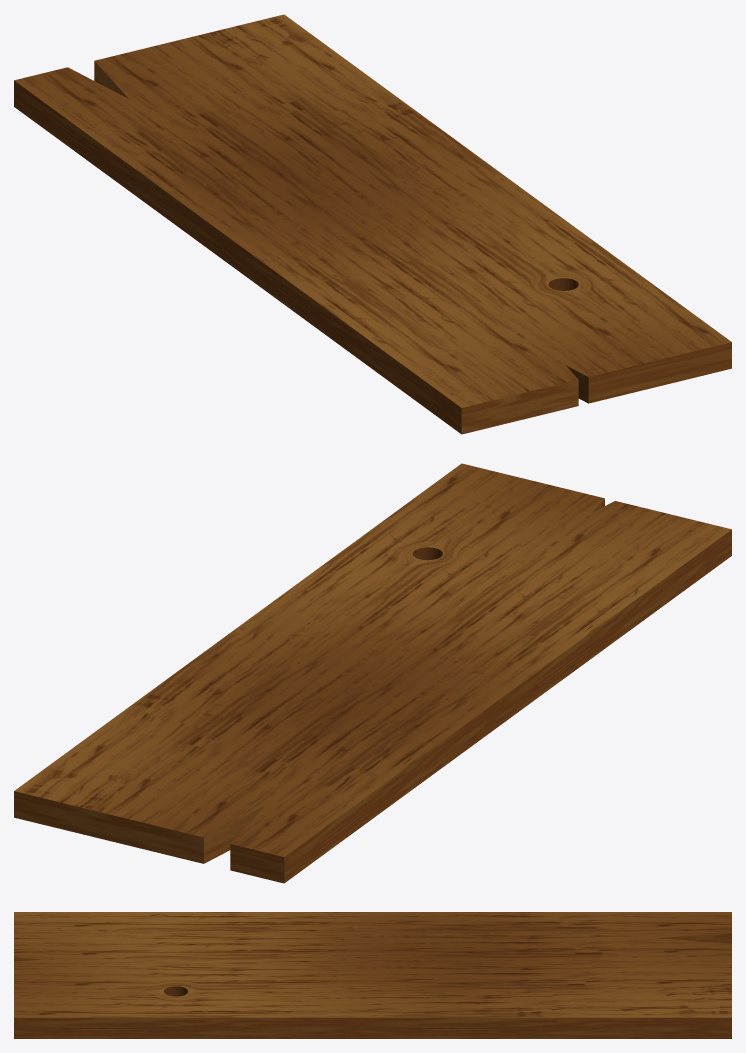
Rendered from Wood.fbx.
3 views of the same model, one above another, from view 1: azimuth 30°, elevation 25°; view 2: azimuth 150°, elevation 25°; view 3: azimuth 270°, elevation 25° (orthographic). The views are drawn at different scales.
Parts seen in each view (by area): view 1: Cube; view 2: Cube; view 3: Cube.
Boxes of the visible parts, bbox=[...] form: Cube: bbox=[14, 14, 731, 434]; Cube: bbox=[14, 463, 731, 883]; Cube: bbox=[14, 912, 731, 1038].
Size of the model in its own units: 53.44 by 5 by 153.
